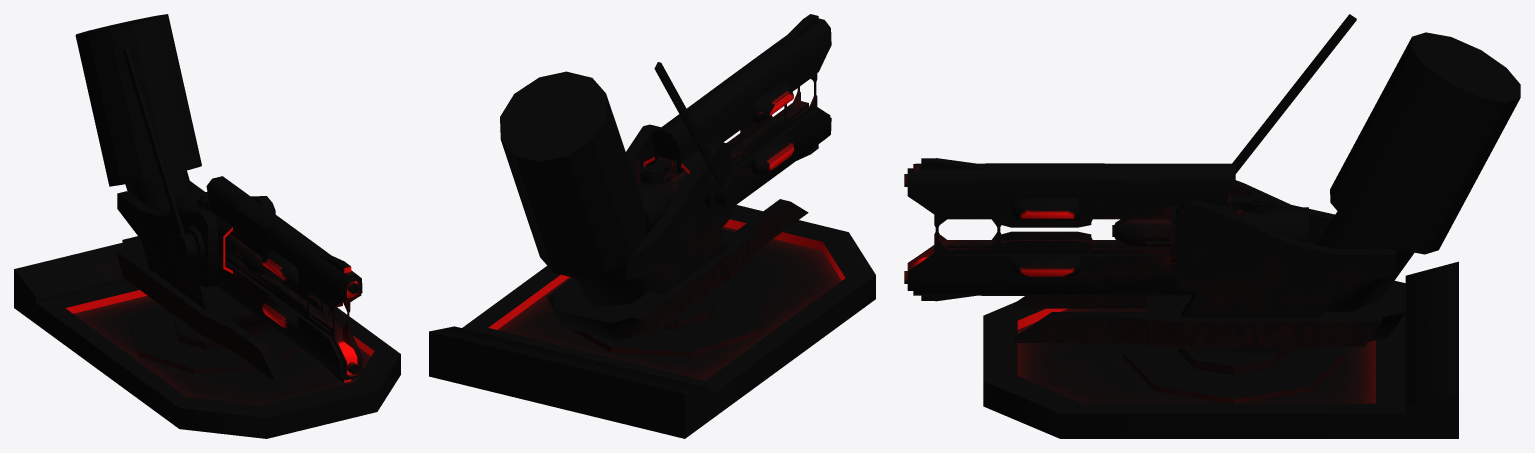
The model's file is Turret_Baked_Export2.fbx.
The picture shows the model from 3 angles, left to right: view 1: azimuth 30°, elevation 25°; view 2: azimuth 150°, elevation 25°; view 3: azimuth 270°, elevation 25°; orthographic projection. The views are drawn at different scales.
Visible parts, largest first — view 1: Rotate_pivot, Ground, Barrel_Pivot, Turret_2, Core; view 2: Rotate_pivot, Ground, Barrel_Pivot, Turret_2, Core; view 3: Rotate_pivot, Ground, Barrel_Pivot, Turret_2, Core.
Part boxes in pixels (x1,y1,x2,y2): Rotate_pivot: (75, 14, 284, 381); Ground: (14, 242, 400, 438); Barrel_Pivot: (197, 176, 362, 382); Turret_2: (129, 304, 301, 373); Core: (169, 190, 270, 275); Rotate_pivot: (500, 62, 808, 341); Ground: (429, 205, 875, 438); Barrel_Pivot: (640, 14, 831, 204); Turret_2: (570, 277, 767, 356); Core: (637, 170, 688, 234); Rotate_pivot: (1014, 14, 1520, 352); Ground: (983, 261, 1458, 438); Barrel_Pivot: (904, 158, 1269, 301); Turret_2: (1122, 343, 1345, 403); Core: (1112, 207, 1308, 247).
Bounding box in the file's own units: 502 × 599 × 1003.
Materials: 5 (5 with a texture image).
